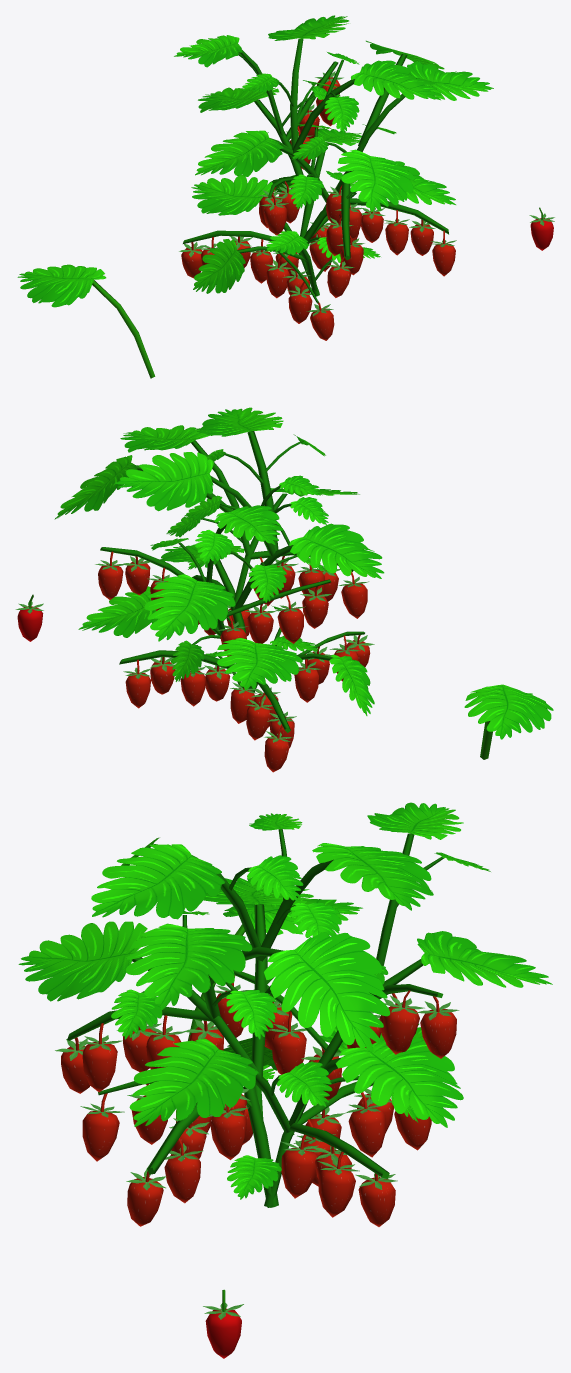
Rendered from Strawberries Stage 3.fbx.
The picture shows the model from 3 angles, top to bottom: view 1: azimuth 30°, elevation 25°; view 2: azimuth 150°, elevation 25°; view 3: azimuth 270°, elevation 25°; orthographic projection. The views are drawn at different scales.
Parts seen in each view (by area): view 1: Strawberry_Plant_Leaf_Main_Mesh, polySurface109, polySurface110, polySurface115, polySurface104, polySurface117, polySurface118, polySurface116, polySurface114, polySurface111, polySurface106, polySurface105 (+24 smaller); view 2: polySurface116, polySurface111, polySurface110, Strawberry_Plant_Leaf_Main_Mesh, polySurface104, polySurface115, polySurface107, polySurface117, polySurface119, polySurface114, polySurface118, polySurface132 (+28 smaller); view 3: polySurface119, polySurface106, polySurface115, polySurface117, polySurface109, polySurface107, polySurface116, polySurface111, polySurface114, polySurface110, polySurface138, polySurface112 (+29 smaller).
Part boxes in pixels (box(x1,y1,x2,y2)): Strawberry_Plant_Leaf_Main_Mesh: box(17, 264, 155, 378); polySurface109: box(334, 149, 415, 212); polySurface110: box(195, 130, 328, 202); polySurface115: box(292, 60, 441, 155); polySurface104: box(191, 175, 319, 296); polySurface117: box(357, 61, 493, 151); polySurface118: box(193, 239, 307, 293); polySurface116: box(268, 15, 348, 149); polySurface114: box(174, 35, 284, 135); polySurface111: box(198, 87, 307, 205); polySurface106: box(303, 161, 455, 240); polySurface105: box(266, 230, 317, 291); polySurface116: box(115, 452, 274, 556); polySurface111: box(144, 574, 235, 641); polySurface110: box(234, 523, 384, 609); Strawberry_Plant_Leaf_Main_Mesh: box(464, 684, 553, 759); polySurface104: box(215, 638, 302, 690); polySurface115: box(196, 407, 283, 555); polySurface107: box(78, 586, 220, 637); polySurface117: box(120, 425, 251, 556); polySurface119: box(54, 455, 233, 519); polySurface114: box(206, 505, 283, 582); polySurface118: box(297, 653, 374, 715); polySurface132: box(248, 562, 286, 602); polySurface119: box(209, 932, 390, 1052); polySurface106: box(129, 1038, 294, 1135); polySurface115: box(91, 844, 264, 960); polySurface117: box(125, 923, 252, 1018); polySurface109: box(18, 921, 260, 1074); polySurface107: box(289, 1037, 463, 1127); polySurface116: box(255, 843, 433, 961); polySurface111: box(318, 931, 552, 1067); polySurface114: box(367, 802, 463, 993); polySurface110: box(203, 877, 313, 1078); polySurface138: box(229, 855, 303, 901); polySurface112: box(270, 1061, 332, 1106).
Bounding box in the file's own units: 1.82 × 0.8936 × 1.1.
5 materials, 3 textured.
